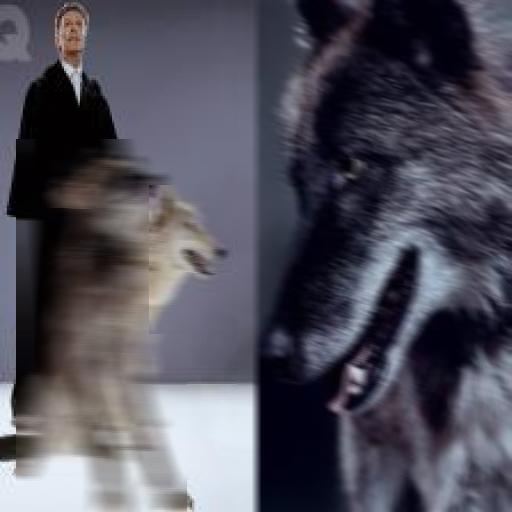wolf: (237, 0, 512, 512), (16, 139, 187, 512), (149, 185, 232, 334)
